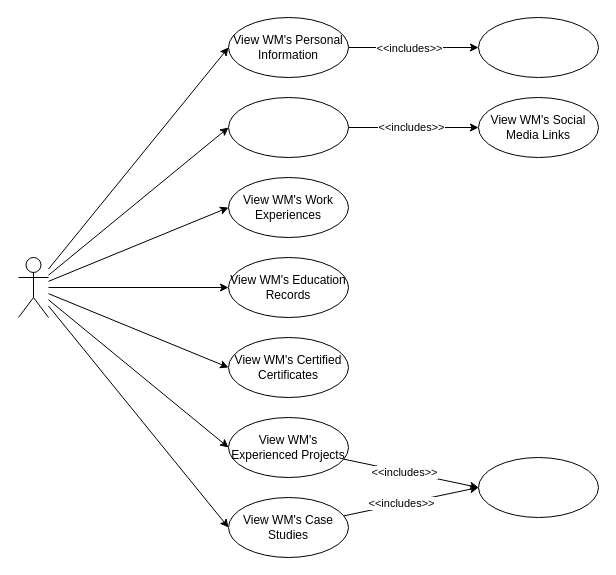
This 616x575 diagram has some shape labels left out. The centre of each missing label's shape, as x and y in pixels:
Download WM's CV: the point at 538,47
View Details: the point at 538,487
View WM's Contact: the point at 288,127
Visitor: the point at 33,287
